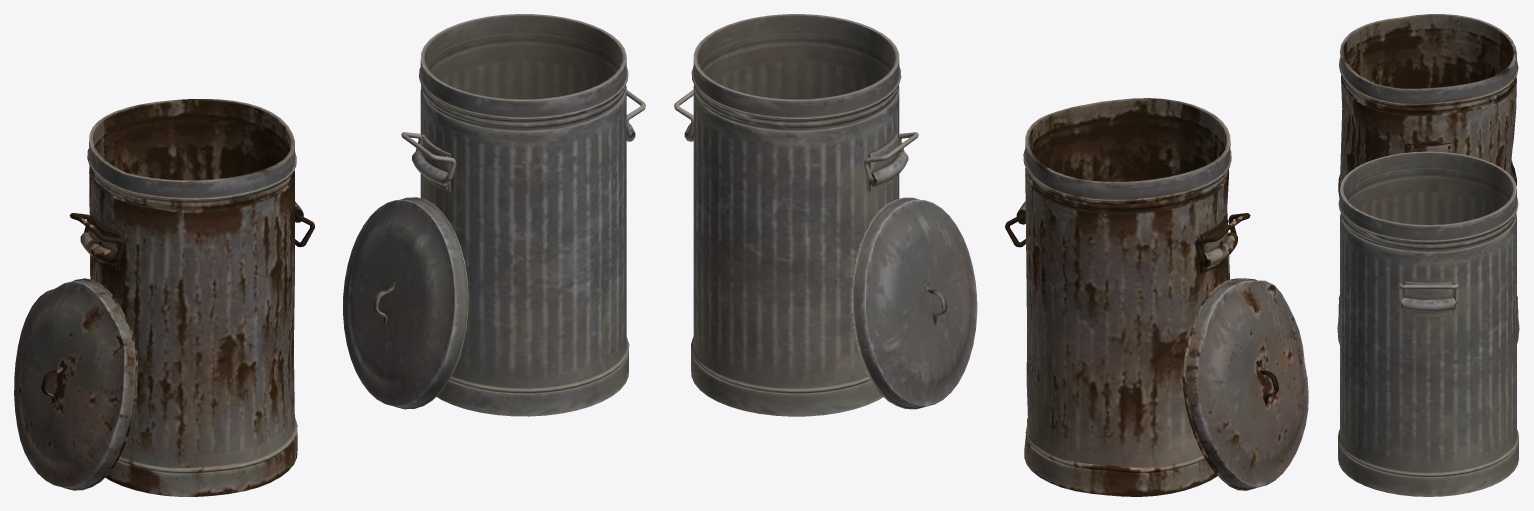
Rendered from metal_trash_can.glb.
The picture shows the model from 3 angles, left to right: view 1: azimuth 30°, elevation 25°; view 2: azimuth 150°, elevation 25°; view 3: azimuth 270°, elevation 25°; orthographic projection. The views are drawn at different scales.
Visible parts, largest first — view 1: metal_trash_can_handle_left, metal_trash_can_rust; view 2: metal_trash_can_handle_left, metal_trash_can_rust; view 3: metal_trash_can_handle_left, metal_trash_can_rust.
Boxes of the visible parts, x1,y1,x2,y2 form: metal_trash_can_handle_left: (343,14,645,416); metal_trash_can_rust: (14,99,314,496); metal_trash_can_handle_left: (674,14,977,416); metal_trash_can_rust: (1005,98,1308,496); metal_trash_can_handle_left: (1337,151,1519,496); metal_trash_can_rust: (1338,14,1518,317).
Size of the model in its own units: 1.78 by 0.9062 by 0.5543.
2 materials, 2 textured.
